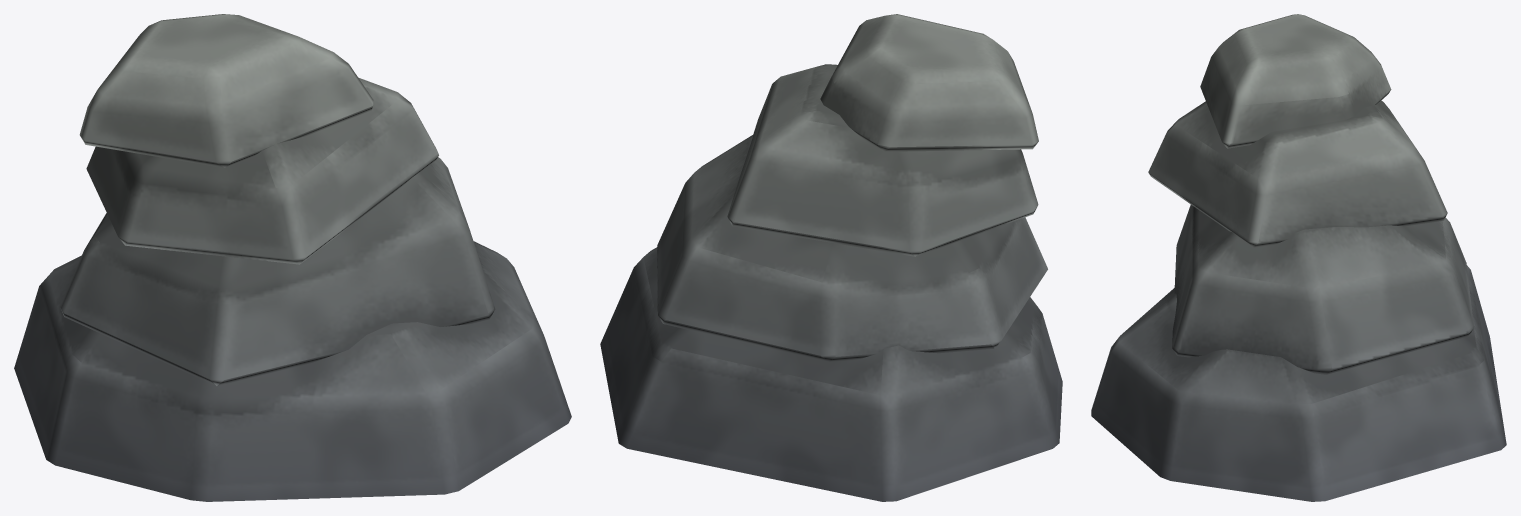
The model's file is stack_1.glb.
The picture shows the model from 3 angles, left to right: view 1: azimuth 30°, elevation 25°; view 2: azimuth 150°, elevation 25°; view 3: azimuth 270°, elevation 25°; orthographic projection. The views are drawn at different scales.
Parts seen in each view (by area): view 1: stack_1; view 2: stack_1; view 3: stack_1.
Boxes of the visible parts, x1=… form: stack_1: x1=14, y1=14, x2=571, y2=501; stack_1: x1=600, y1=14, x2=1062, y2=501; stack_1: x1=1091, y1=14, x2=1506, y2=501.
Bounding box in the file's own units: 0.9 × 0.7 × 0.8.
Materials: 1 (1 with a texture image).
